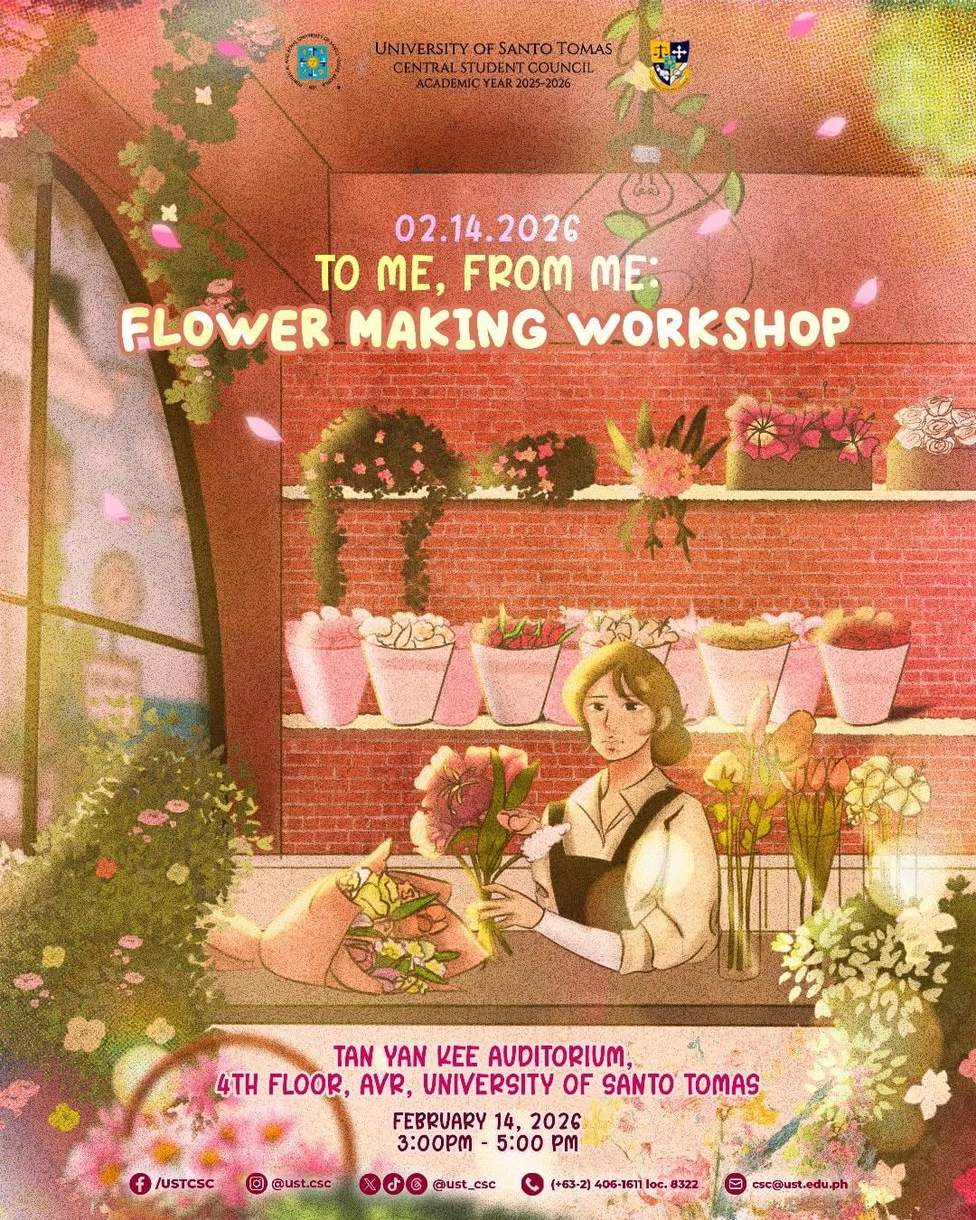embellishment: (0, 713, 520, 1122), (408, 625, 725, 989), (277, 582, 921, 737), (764, 854, 975, 1219), (352, 1163, 431, 1213), (513, 1167, 551, 1211), (718, 1163, 752, 1205), (232, 1167, 269, 1203), (125, 1166, 153, 1199)
logo: (274, 30, 348, 99), (633, 34, 700, 97)
text: (110, 202, 870, 364), (205, 1030, 776, 1159), (361, 31, 617, 98), (550, 1172, 705, 1204), (747, 1168, 859, 1202), (269, 1166, 349, 1200), (155, 1166, 219, 1200), (431, 1171, 502, 1199)
underlay: (208, 1026, 802, 1166)
